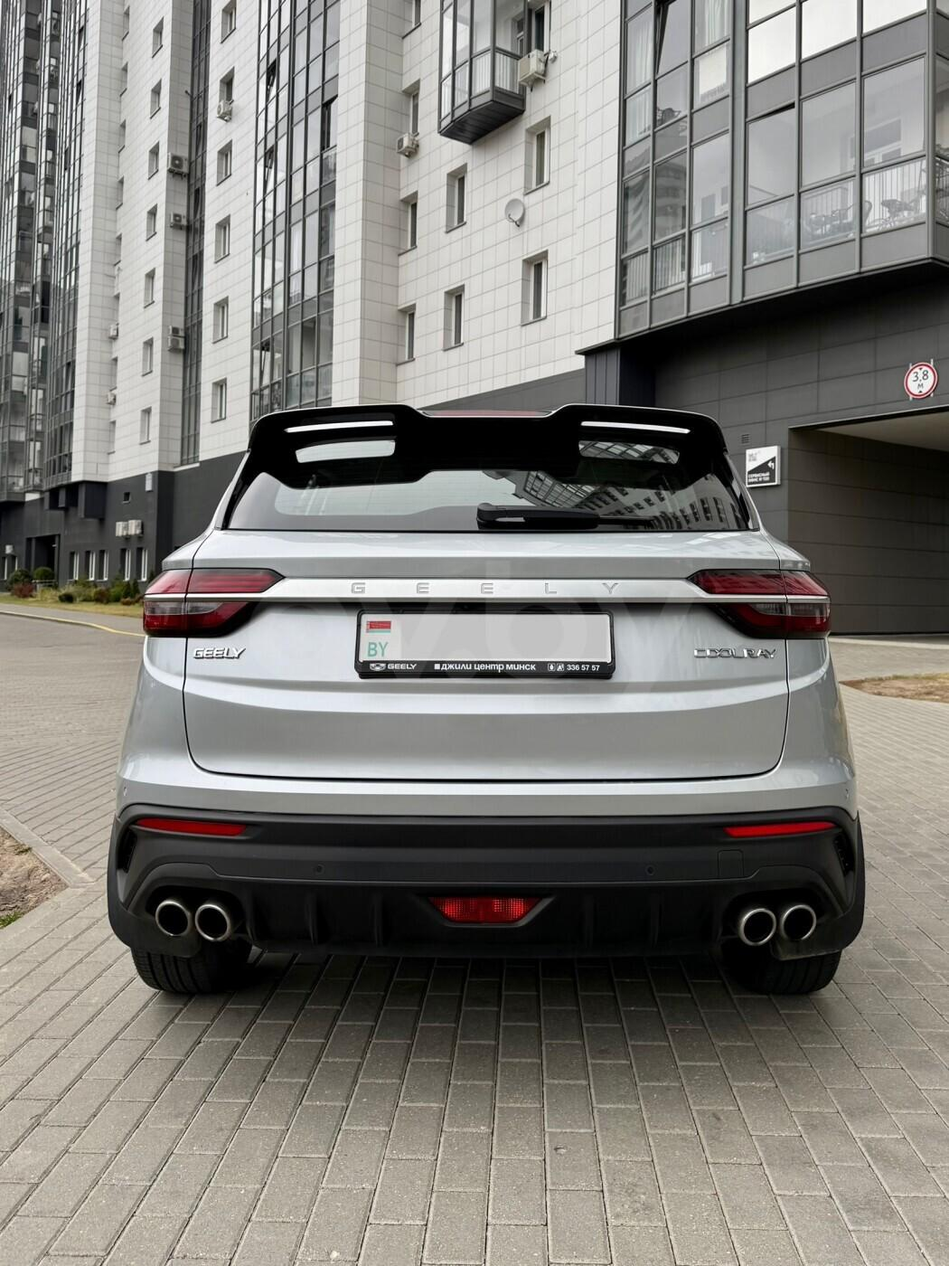Coolray_2019-2023: (107, 396, 869, 995)
